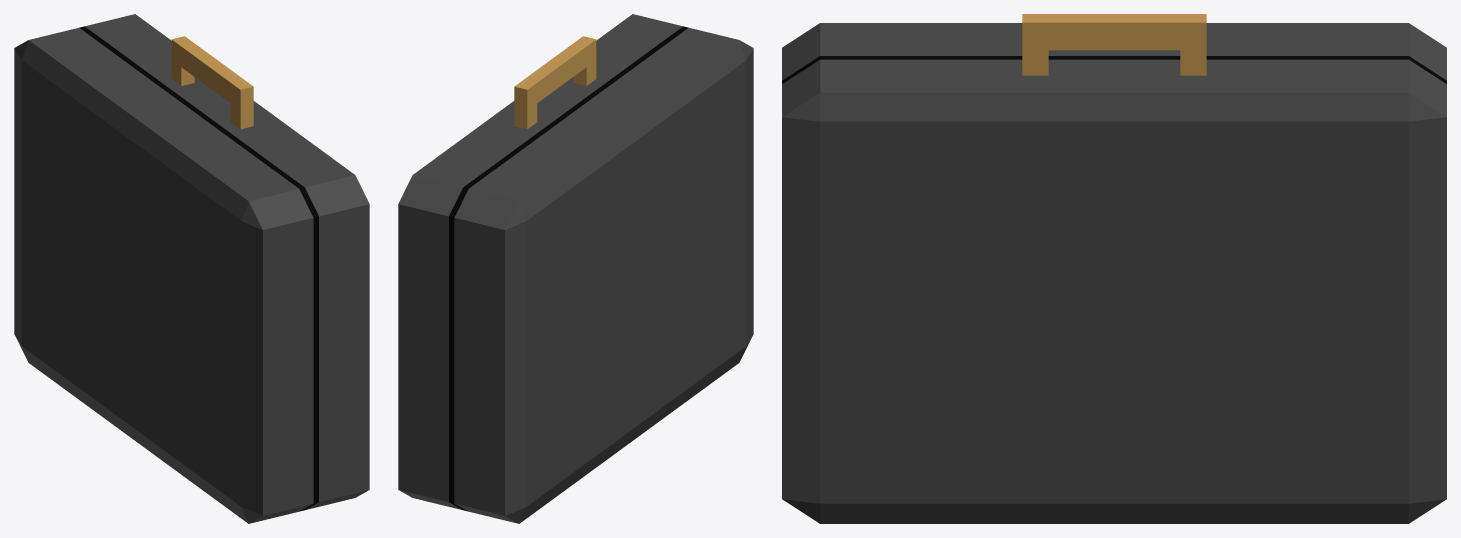
File: Flashback_02_case.glb
The picture shows the model from 3 angles, left to right: view 1: azimuth 30°, elevation 25°; view 2: azimuth 150°, elevation 25°; view 3: azimuth 270°, elevation 25°; orthographic projection. The views are drawn at different scales.
Parts seen in each view (by area): view 1: Cube.003; view 2: Cube.003; view 3: Cube.003.
Boxes of the visible parts, box(x1,y1,x2,y2) form: Cube.003: box(14, 14, 369, 523); Cube.003: box(398, 14, 753, 523); Cube.003: box(782, 14, 1446, 523).
Bounding box in the file's own units: 0.1456 × 0.424 × 0.5202.
1 material, 1 textured.
